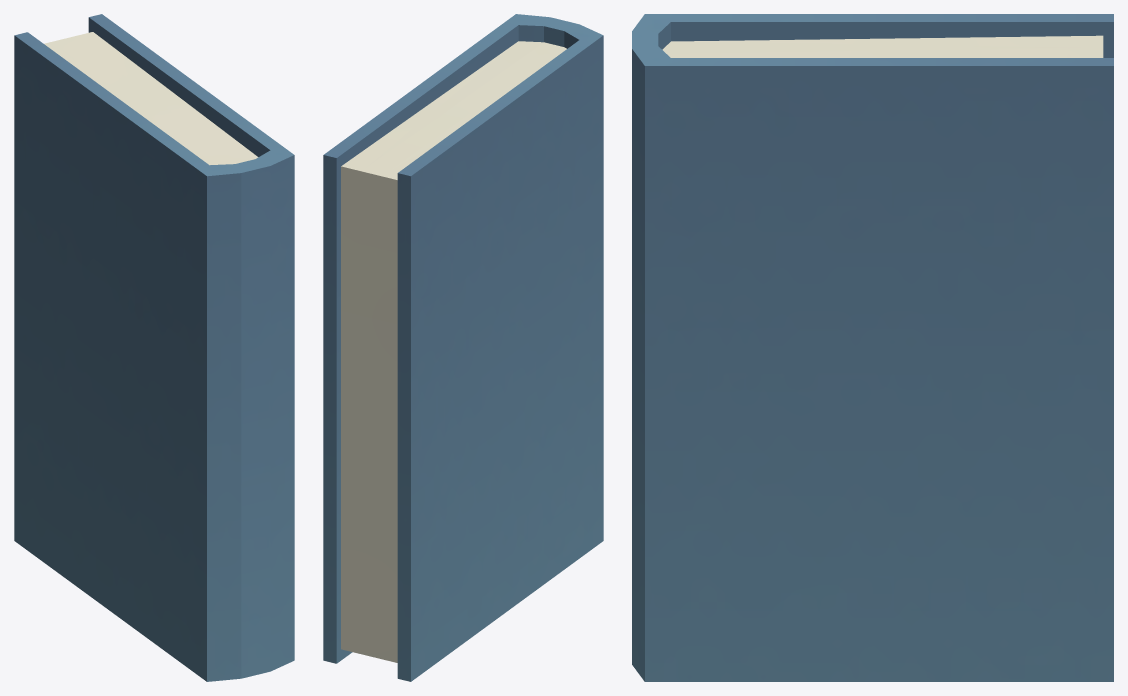
Rendered from book_1.dae.
The picture shows the model from 3 angles, left to right: view 1: azimuth 30°, elevation 25°; view 2: azimuth 150°, elevation 25°; view 3: azimuth 270°, elevation 25°; orthographic projection. The views are drawn at different scales.
Visible parts, largest first — view 1: book_1; view 2: book_1; view 3: book_1.
Part boxes in pixels (left/top/right/bottom): book_1: left=14, top=14, right=294, bottom=681; book_1: left=323, top=14, right=603, bottom=681; book_1: left=632, top=14, right=1113, bottom=681.
Bounding box in the file's own units: 0.0375 × 0.147 × 0.2073.
